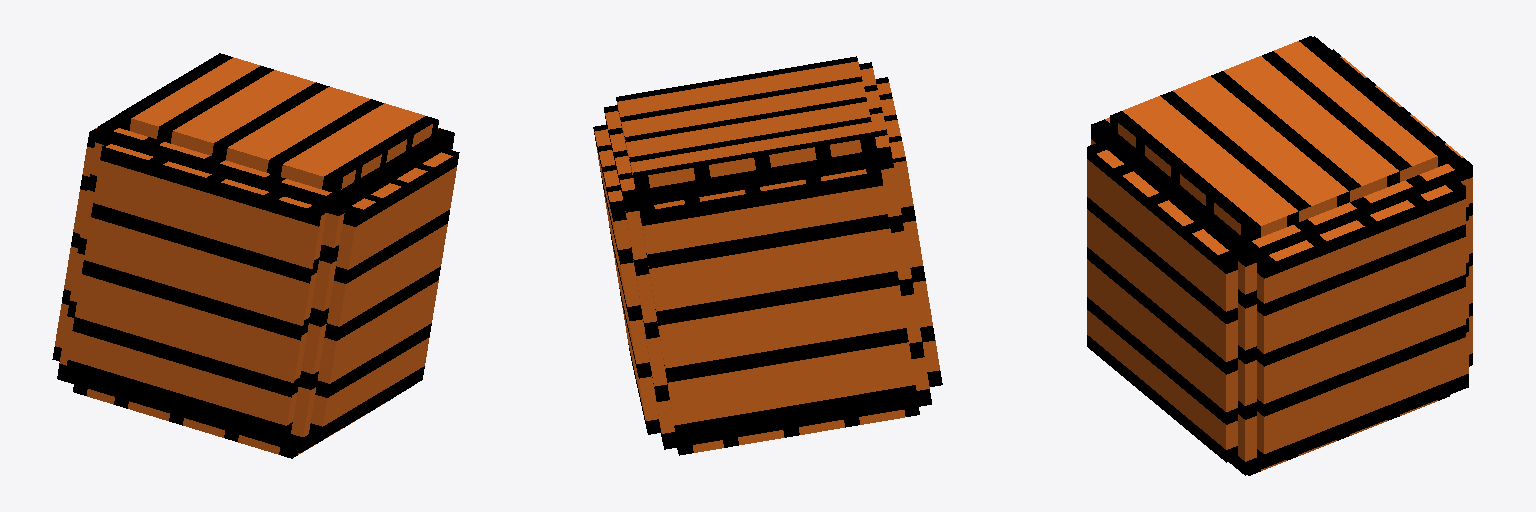
The picture shows the model from 3 angles: view 1: azimuth 30°, elevation 25°; view 2: azimuth 150°, elevation 25°; view 3: azimuth 270°, elevation 25°; orthographic projection.
Parts seen in each view (by area): view 1: cube, center; view 2: cube, center; view 3: cube, center.
Boxes of the visible parts, <box> form: cube: <box>52,53,459,458</box>; center: <box>57,115,454,452</box>; cube: <box>593,56,942,455</box>; center: <box>604,62,931,449</box>; cube: <box>1087,36,1472,475</box>; center: <box>1091,36,1468,475</box>.
Bounding box in the file's own units: 0.3878 × 0.3252 × 0.3541.
Materials: 2 (1 with a texture image).